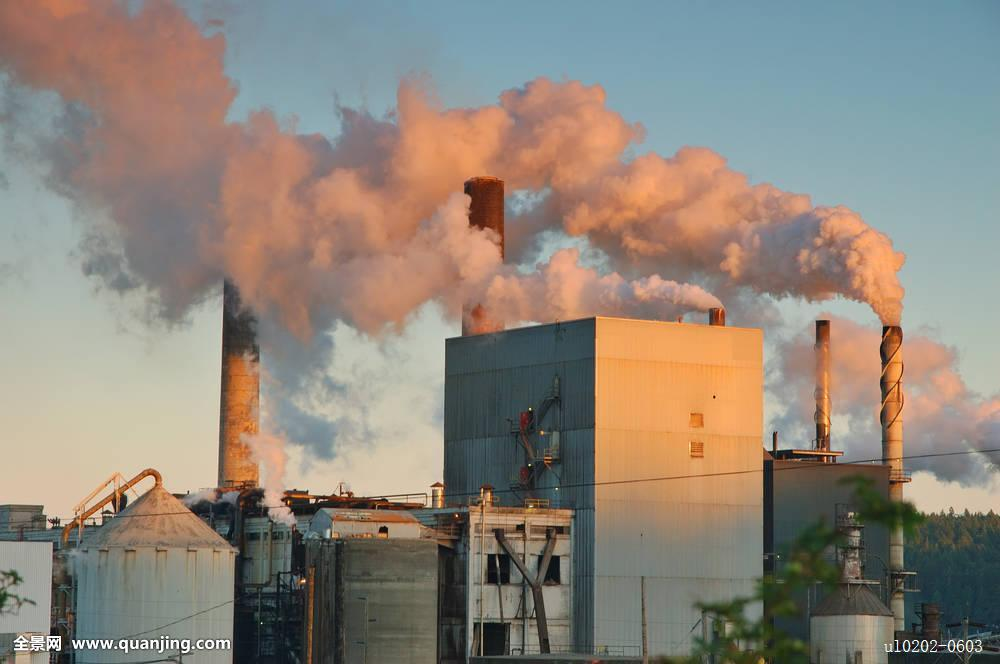dust: (660, 171, 912, 329), (321, 69, 539, 198), (577, 241, 747, 324)
